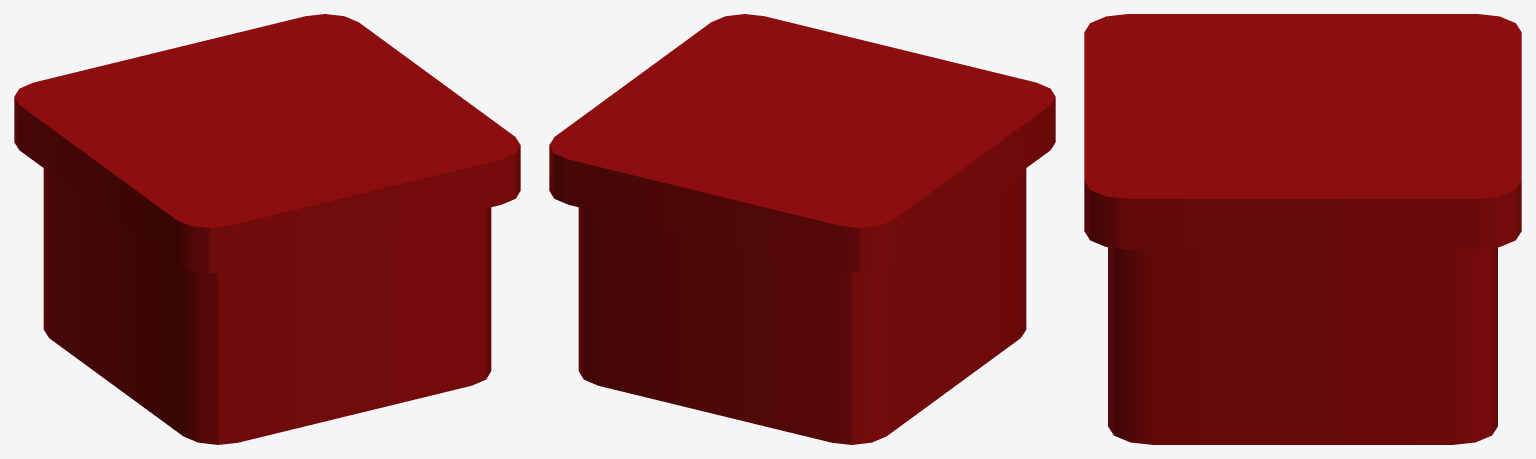
3 views of the same model, side by side, from view 1: azimuth 30°, elevation 25°; view 2: azimuth 150°, elevation 25°; view 3: azimuth 270°, elevation 25° (orthographic). The views are drawn at different scales.
Parts seen in each view (by area): view 1: Cube.003; view 2: Cube.003; view 3: Cube.003.
Part boxes in pixels (x1,y1,x2,y2): Cube.003: (14, 14, 520, 444); Cube.003: (549, 14, 1055, 444); Cube.003: (1084, 14, 1521, 444).
Size of the model in its own units: 224 by 145 by 224.
